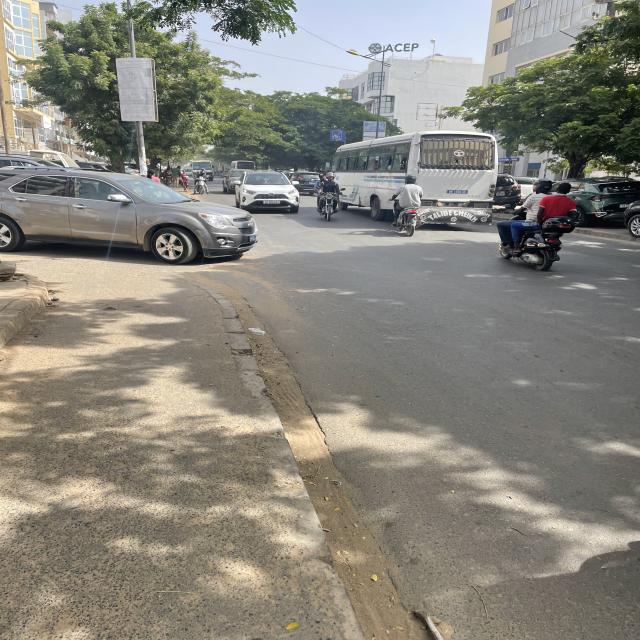bus tata: (330, 133, 496, 231), (191, 160, 213, 181), (228, 160, 258, 172)
moto: (496, 207, 568, 273), (391, 200, 426, 238), (318, 190, 342, 224), (188, 178, 214, 197)
particulier: (5, 164, 259, 265), (538, 177, 640, 230), (237, 171, 302, 216), (282, 172, 324, 196), (498, 174, 522, 213)
